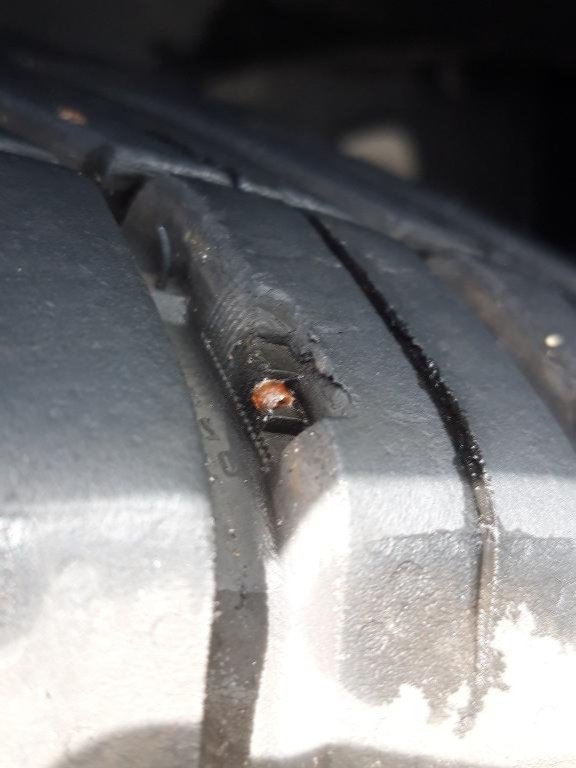temoin:80: (195, 266, 364, 487)
